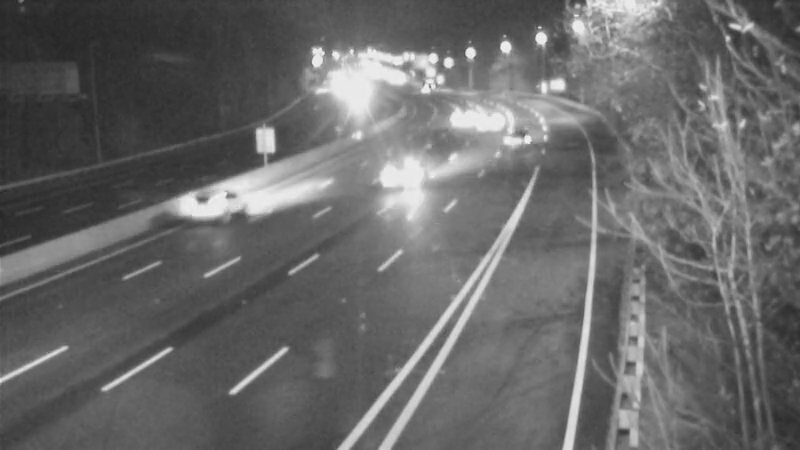vehicle: (366, 134, 446, 214), (167, 166, 247, 246), (444, 86, 494, 136), (468, 92, 518, 142), (497, 113, 547, 163)
